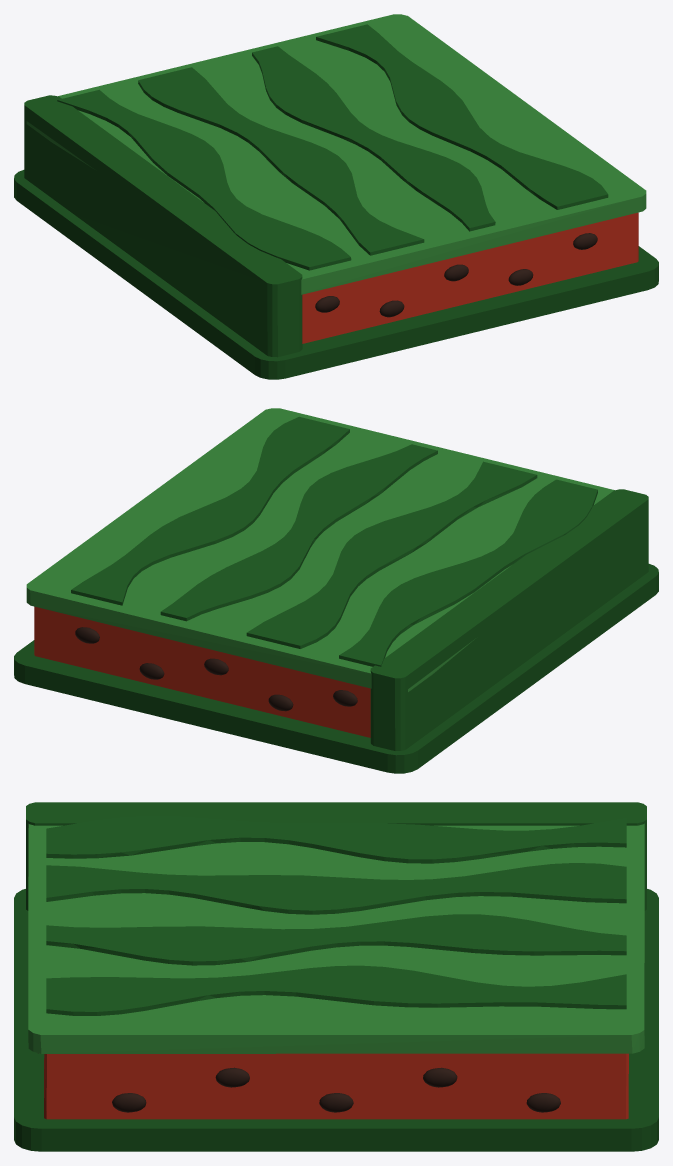
The model's file is book_melancia.fbx.
The picture shows the model from 3 angles, top to bottom: view 1: azimuth 30°, elevation 25°; view 2: azimuth 150°, elevation 25°; view 3: azimuth 270°, elevation 25°; orthographic projection. The views are drawn at different scales.
Parts seen in each view (by area): view 1: book_melancia_livro; view 2: book_melancia_livro; view 3: book_melancia_livro.
Part boxes in pixels (<box>): book_melancia_livro: <box>14,14,658,379</box>; book_melancia_livro: <box>14,408,658,773</box>; book_melancia_livro: <box>14,802,658,1151</box>.
Size of the model in its own units: 2.49 by 0.55 by 2.8.
1 material, 1 textured.
